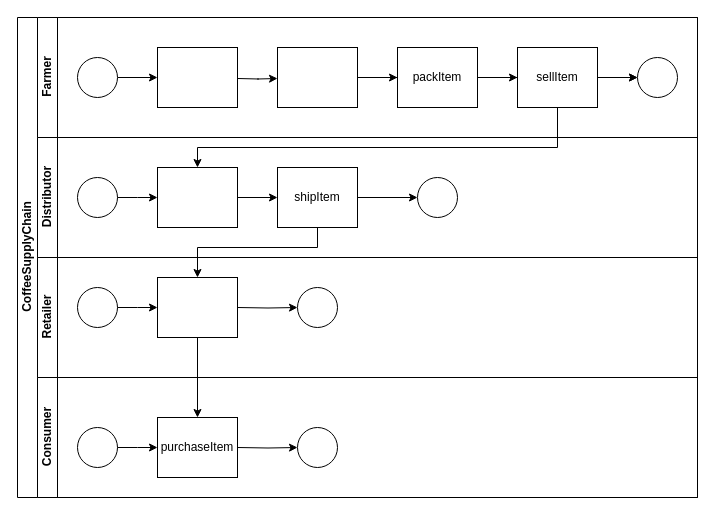
This 715x515 diagram has some shape labels left out. Here are the shapes that lost their labels. From the top down, the centre of each, then its label:
At point 197,77: "harvestItem".
At point 317,77: "processItem".
At point 197,197: "buyItem".
At point 197,307: "receiveItem".
